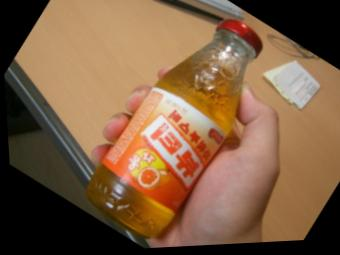glass: (66, 0, 300, 252)
